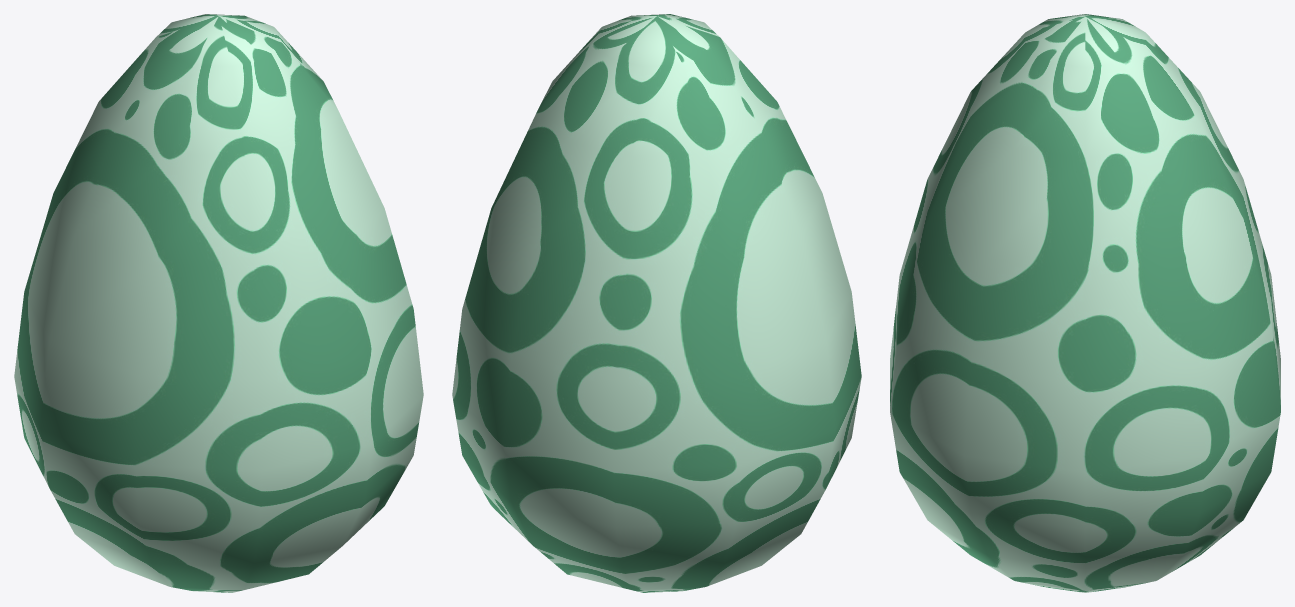
The model's file is SM_Egg.fbx.
3 views of the same model, side by side, from view 1: azimuth 30°, elevation 25°; view 2: azimuth 150°, elevation 25°; view 3: azimuth 270°, elevation 25° (orthographic).
Parts seen in each view (by area): view 1: SM_Egg; view 2: SM_Egg; view 3: SM_Egg.
Boxes of the visible parts, x1,y1,x2,y2 form: SM_Egg: (14,14,423,592); SM_Egg: (452,14,861,592); SM_Egg: (890,14,1280,592).
Size of the model in its own units: 0.00369 by 0.00553 by 0.00351.
